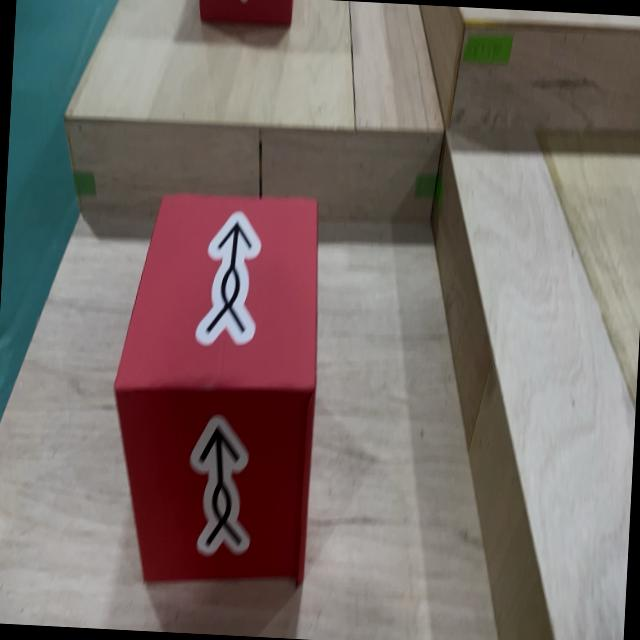12: (185, 412, 258, 558), (195, 208, 263, 348)
fighter: (102, 186, 326, 592), (197, 0, 294, 28)
